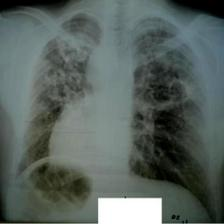tuberculosis: (7, 11, 216, 224)
